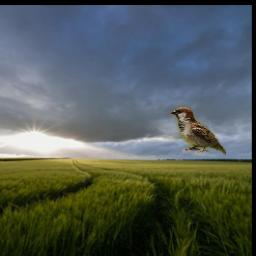Sparrow: (170, 107, 226, 156)
